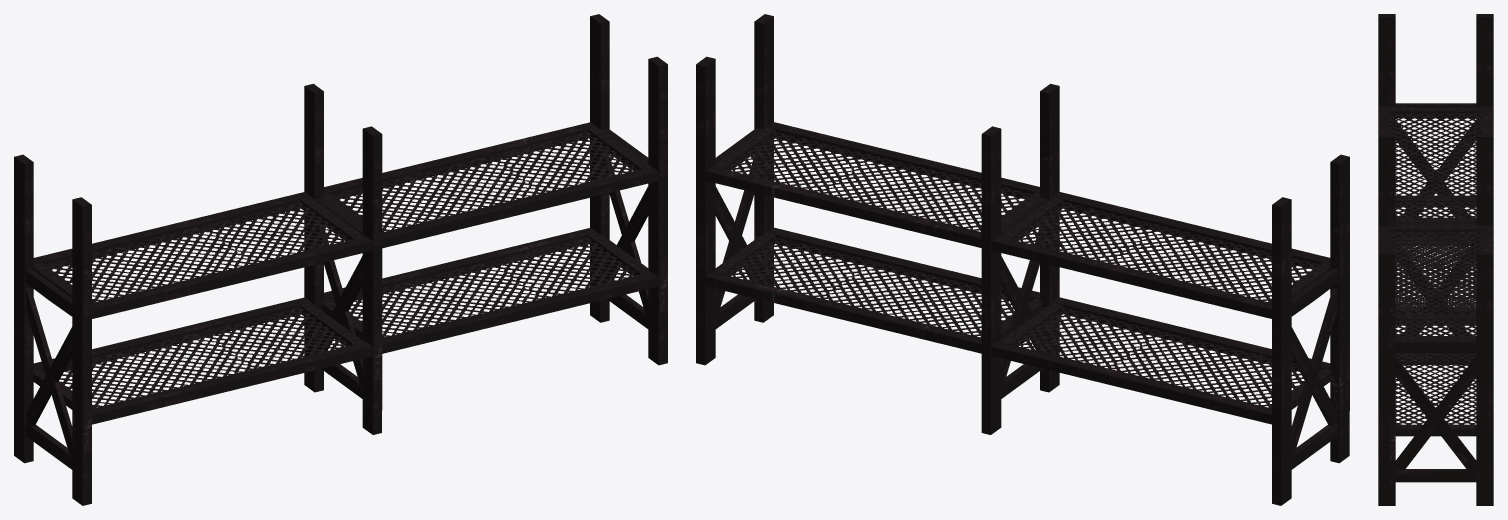
File: SM_EC_BarnShelf_3.fbx
3 renders of one model, left to right at view 1: azimuth 30°, elevation 25°; view 2: azimuth 150°, elevation 25°; view 3: azimuth 270°, elevation 25°, orthographic. The views are drawn at different scales.
Visible parts, largest first — view 1: SM_EC_BarnShelf_3; view 2: SM_EC_BarnShelf_3; view 3: SM_EC_BarnShelf_3.
Part boxes in pixels (x1,y1,x2,y2): SM_EC_BarnShelf_3: (14, 14, 667, 505); SM_EC_BarnShelf_3: (696, 14, 1349, 505); SM_EC_BarnShelf_3: (1378, 14, 1493, 505).
Bounding box in the file's own units: 6.38 × 1.3 × 3.12.
